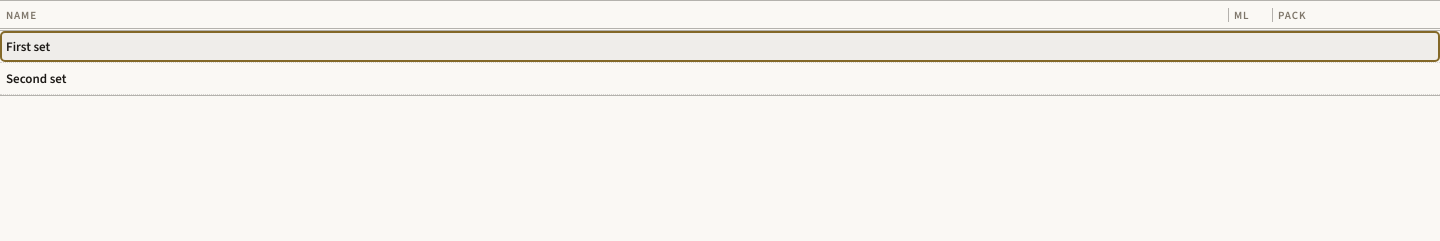
Test case: LedgerTable › collapses each heading independently and navigates through visible rows
The width and height of the screenshot is (1440, 241).
expect the row "First bonus" is not shown: met
expect the row "Second bonus" is not shown: met
Press Enter
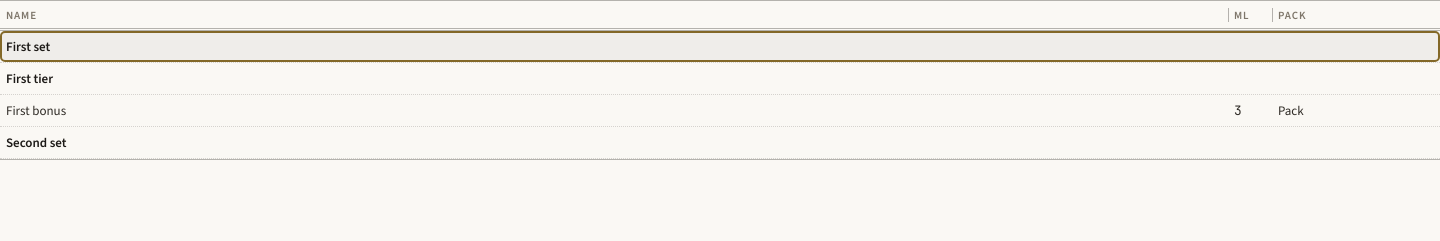
expect the row "Second bonus" is not shown: met
expect the row "First bonus 3 Pack" is shown: met, box [0,95,1439,127]
Type keys "{End} "
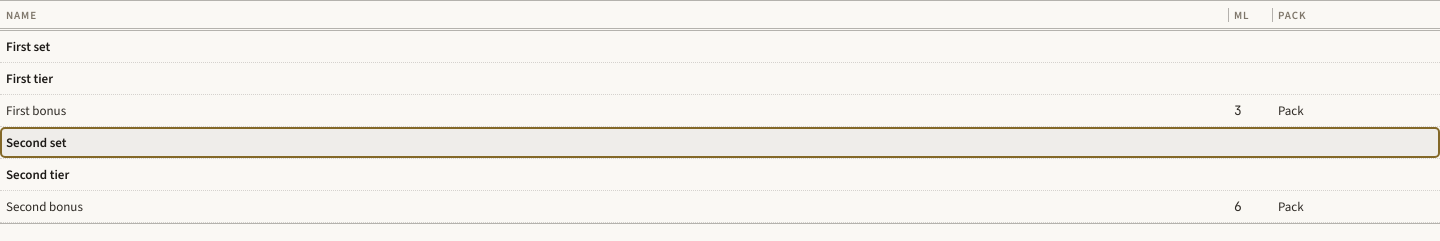
expect the row "Second set" is expanded: met, box [0,127,1439,159]
expect the row "Second bonus 6 Pack" is shown: met, box [0,191,1439,223]
Click the row "First set" at (720, 47), box [0,31,1439,63]
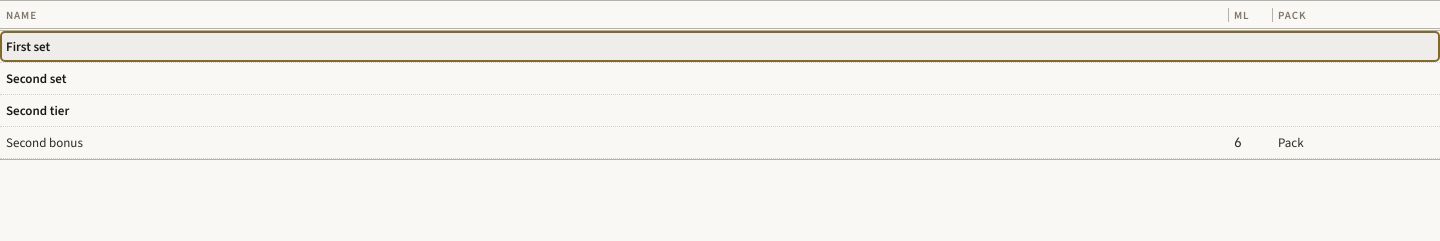
expect the row "Second bonus 6 Pack" is shown: met, box [0,127,1439,159]
expect the row "First set" is collapsed: met, box [0,31,1439,63]
expect the cell "First bonus" is gone: met
